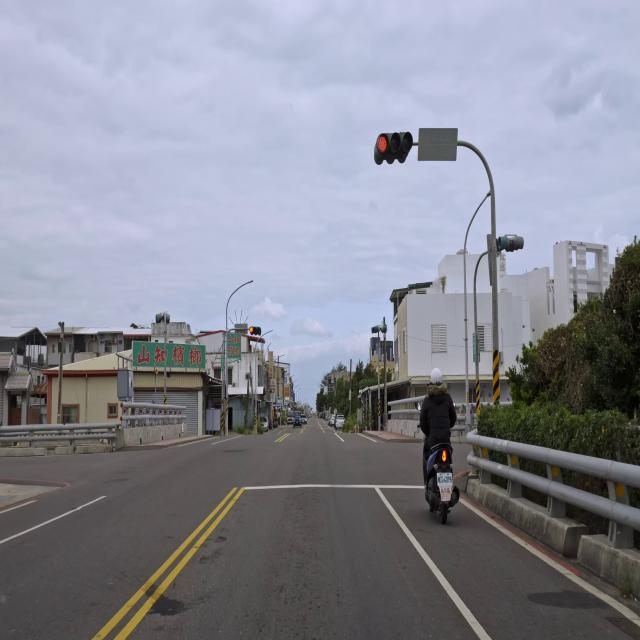red light: (374, 132, 412, 166), (250, 325, 262, 336)
